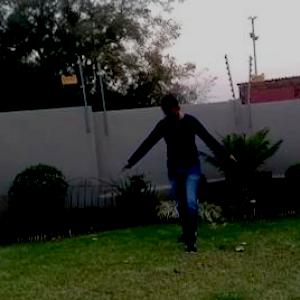land: (111, 92, 237, 258)
